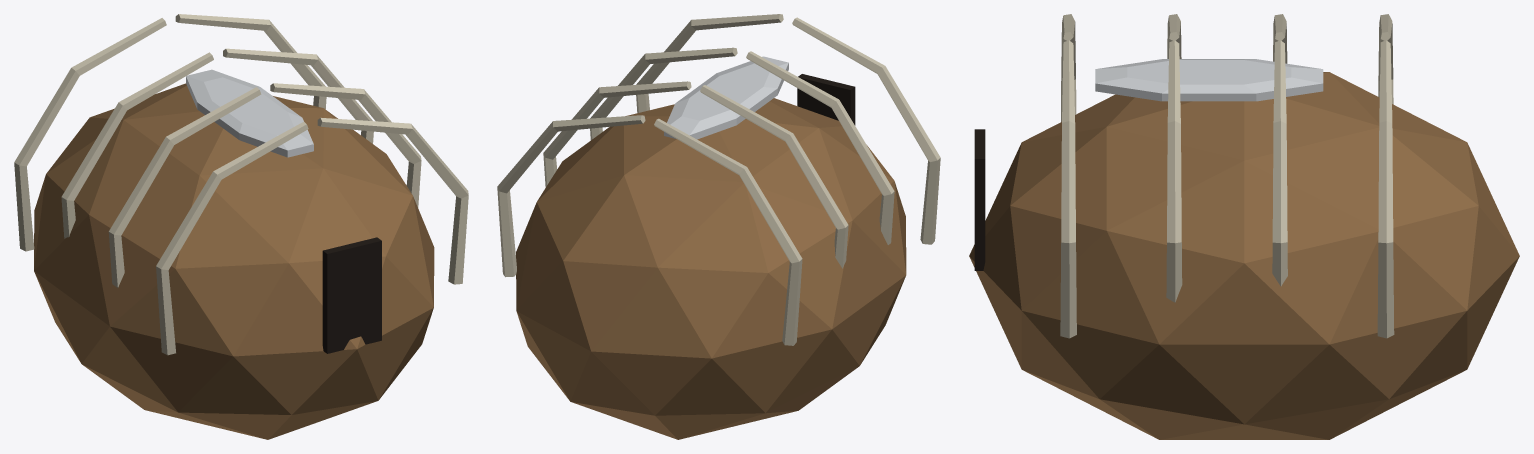
The model's file is owl_house_c.glb.
The picture shows the model from 3 angles, left to right: view 1: azimuth 30°, elevation 25°; view 2: azimuth 150°, elevation 25°; view 3: azimuth 270°, elevation 25°; orthographic projection. The views are drawn at different scales.
Visible parts, largest first — view 1: owl_house_c; view 2: owl_house_c; view 3: owl_house_c.
Part boxes in pixels (bbox=[...]): owl_house_c: bbox=[14, 14, 468, 439]; owl_house_c: bbox=[497, 14, 940, 439]; owl_house_c: bbox=[969, 14, 1519, 439].
Size of the model in its own units: 2.38 by 2.44 by 3.12.
